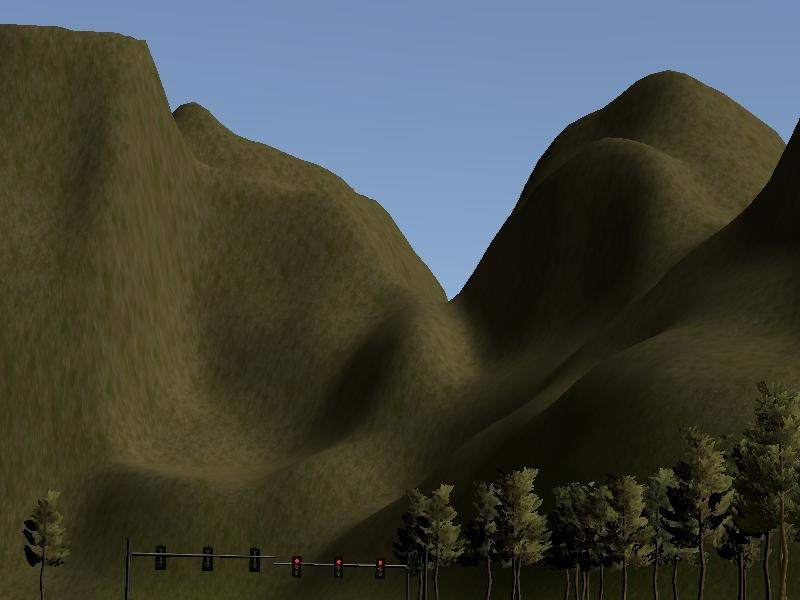red: (292, 554, 302, 579), (334, 555, 344, 580), (376, 557, 386, 582)
